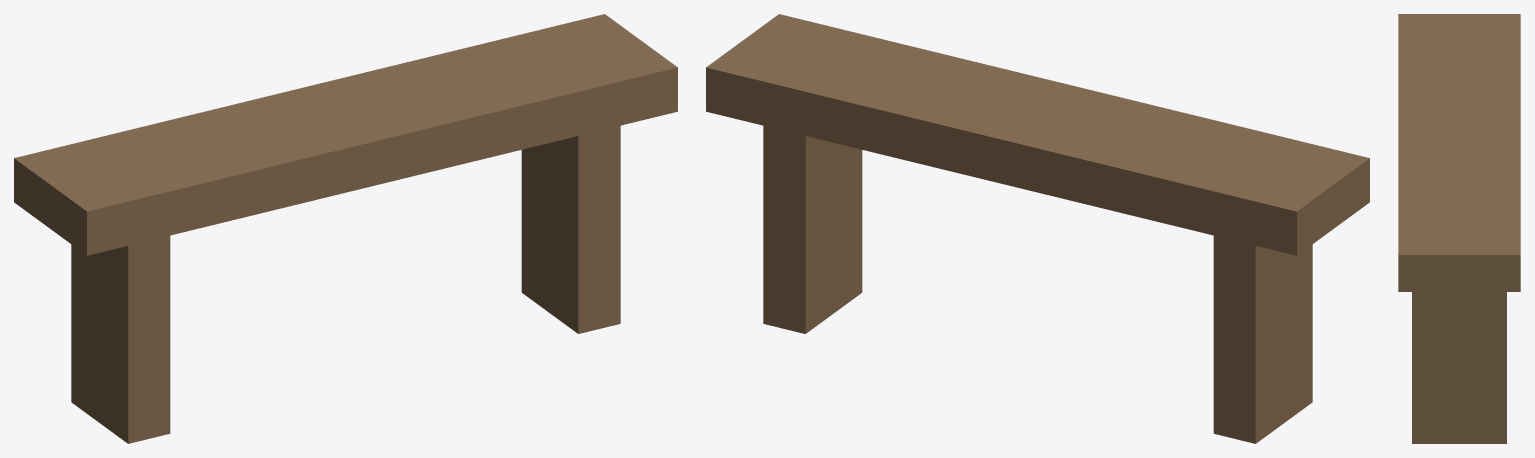
File: capital-bench.glb
The picture shows the model from 3 angles, left to right: view 1: azimuth 30°, elevation 25°; view 2: azimuth 150°, elevation 25°; view 3: azimuth 270°, elevation 25°; orthographic projection. The views are drawn at different scales.
Visible parts, largest first — view 1: Building; view 2: Building; view 3: Building.
Boxes of the visible parts, x1,y1,x2,y2 form: Building: (14, 14, 677, 443); Building: (706, 14, 1369, 443); Building: (1398, 14, 1520, 443).
Size of the model in its own units: 42 by 17 by 9.
